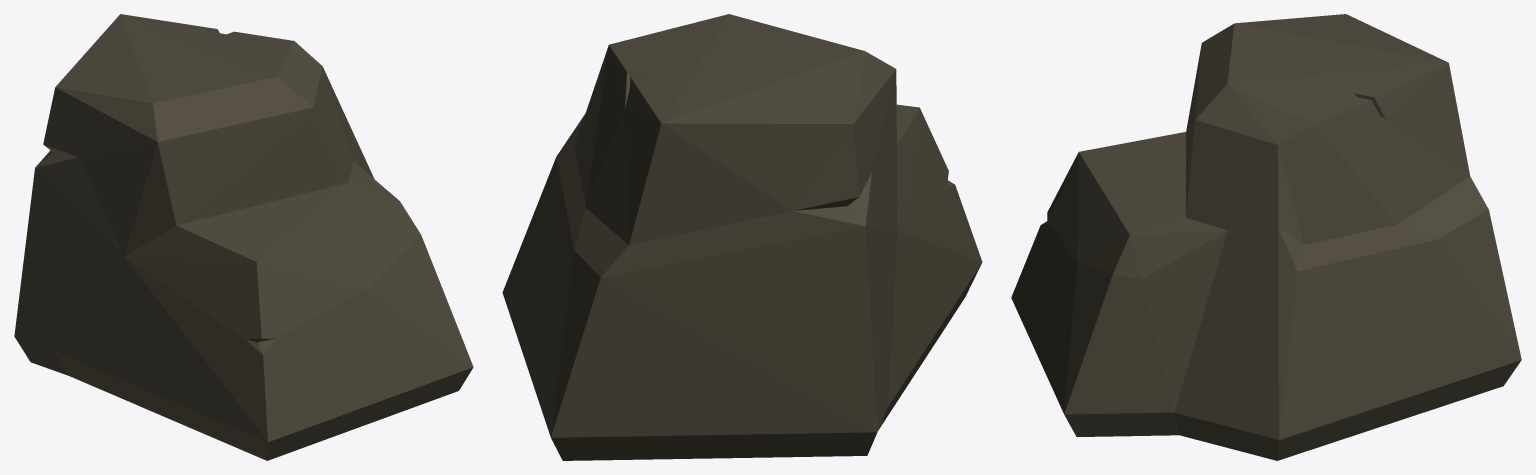
Rendered from rock__rock9_cave_dark.glb.
3 renders of one model, left to right at view 1: azimuth 30°, elevation 25°; view 2: azimuth 150°, elevation 25°; view 3: azimuth 270°, elevation 25°, orthographic. The views are drawn at different scales.
Visible parts, largest first — view 1: rock9.cave.dark; view 2: rock9.cave.dark; view 3: rock9.cave.dark.
Part boxes in pixels (bbox=[...]): rock9.cave.dark: bbox=[14, 14, 473, 460]; rock9.cave.dark: bbox=[502, 14, 982, 460]; rock9.cave.dark: bbox=[1011, 14, 1521, 460].
Size of the model in its own units: 2.32 by 1.76 by 2.73.
1 material, 1 textured.
